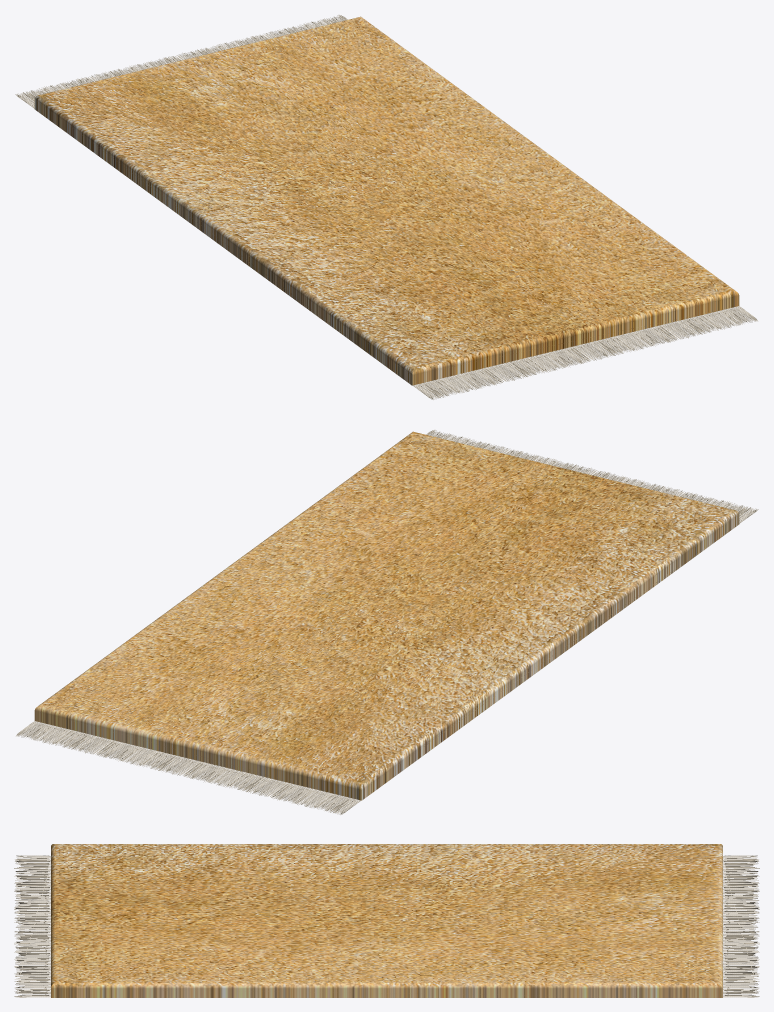
The picture shows the model from 3 angles, top to bottom: view 1: azimuth 30°, elevation 25°; view 2: azimuth 150°, elevation 25°; view 3: azimuth 270°, elevation 25°; orthographic projection. The views are drawn at different scales.
Visible parts, largest first — view 1: k01; view 2: k01; view 3: k01.
Boxes of the visible parts, x1,y1,x2,y2 form: k01: (15,15,757,399); k01: (16,430,758,814); k01: (14,844,759,997).
Size of the model in its own units: 0.6 by 0.0265 by 1.33.
3 materials, 2 textured.
